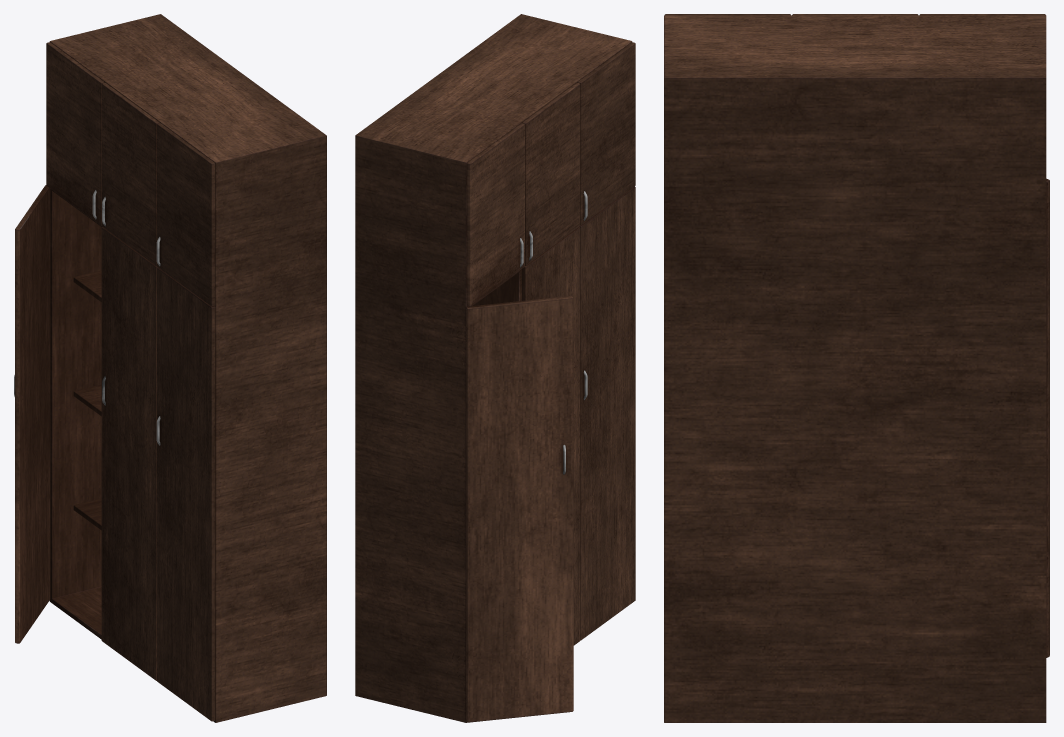
The model's file is capboardB.glb.
3 views of the same model, side by side, from view 1: azimuth 30°, elevation 25°; view 2: azimuth 150°, elevation 25°; view 3: azimuth 270°, elevation 25° (orthographic). The views are drawn at different scales.
Parts seen in each view (by area): view 1: Cube.005; view 2: Cube.005; view 3: Cube.005.
Boxes of the visible parts, x1,y1,x2,y2 form: Cube.005: (14,14,326,722); Cube.005: (355,14,635,722); Cube.005: (664,14,1049,722).
Size of the model in its own units: 0.4908 by 1.44 by 0.7823.
Materials: 1 (1 with a texture image).
